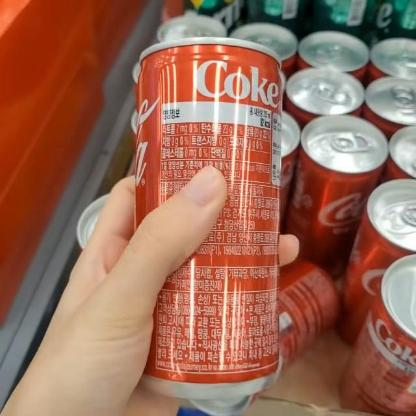Can: (134, 35, 282, 400), (190, 254, 346, 416), (285, 116, 389, 283), (334, 178, 416, 346), (340, 252, 416, 416)
